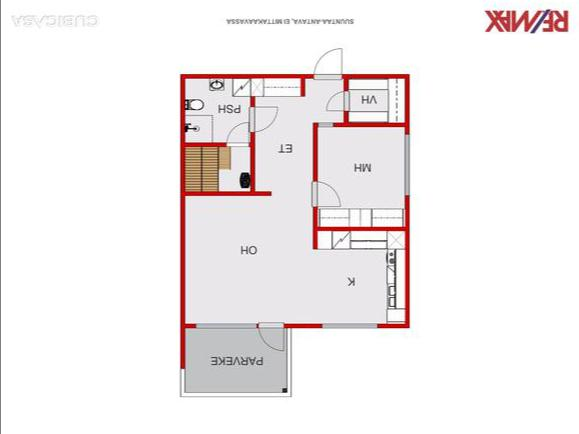door: (255, 320, 288, 354), (312, 48, 344, 81), (308, 180, 342, 211), (246, 104, 280, 134), (222, 121, 252, 148), (324, 90, 352, 114)
window: (314, 320, 383, 332), (192, 320, 258, 332), (402, 128, 412, 200)
